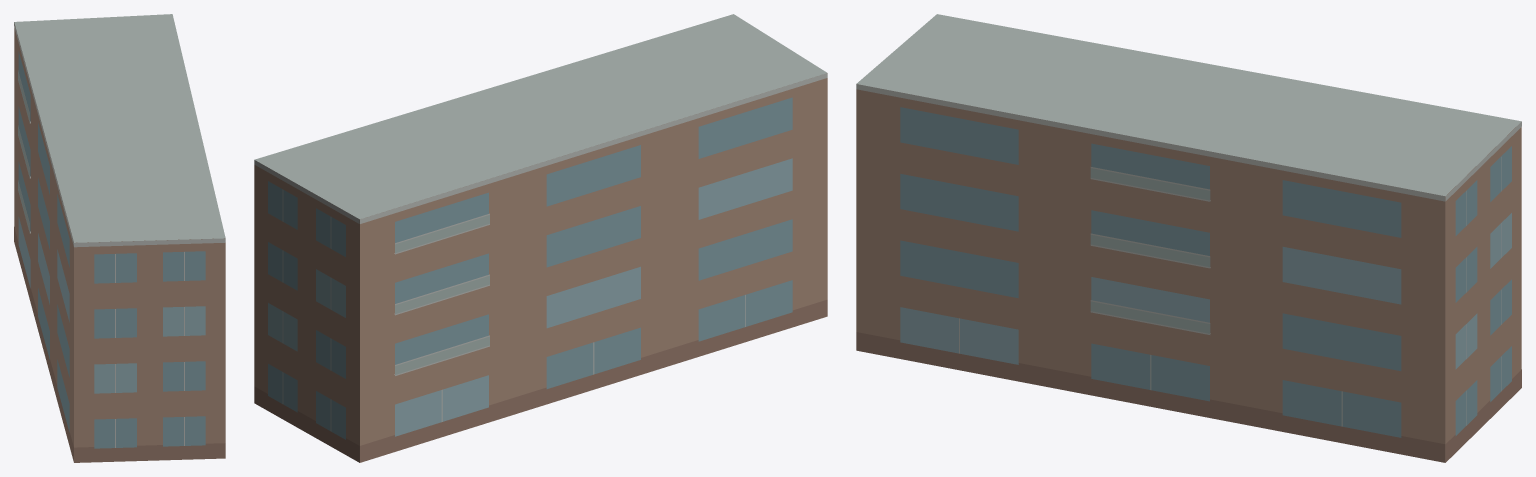
The model's file is survey-upis-32605619.glb.
3 renders of one model, left to right at view 1: azimuth 30°, elevation 25°; view 2: azimuth 150°, elevation 25°; view 3: azimuth 270°, elevation 25°, orthographic. The views are drawn at different scales.
Parts seen in each view (by area): view 1: survey-upis-32605619.tmp; view 2: survey-upis-32605619.tmp; view 3: survey-upis-32605619.tmp.
Boxes of the visible parts, x1=… form: survey-upis-32605619.tmp: x1=14, y1=14, x2=225, y2=462; survey-upis-32605619.tmp: x1=254, y1=14, x2=827, y2=462; survey-upis-32605619.tmp: x1=856, y1=14, x2=1521, y2=462.
Bounding box in the file's own units: 17.9 × 12.2 × 27.61.
